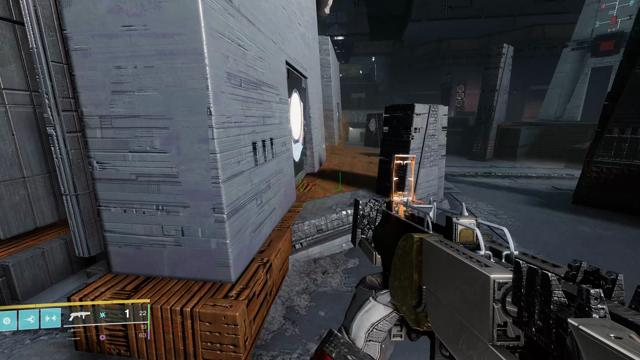traveler: (288, 89, 305, 163)
